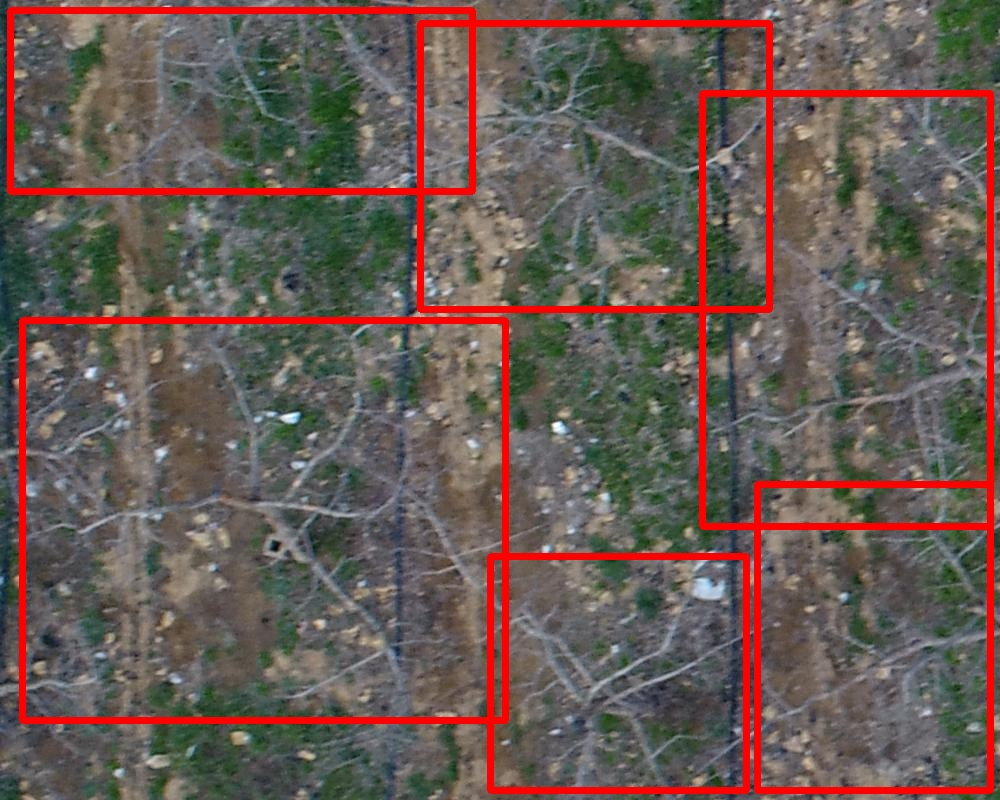apple: (22, 320, 505, 720), (702, 93, 990, 526), (420, 23, 769, 309), (10, 10, 472, 191), (757, 484, 990, 790), (490, 556, 746, 790)
